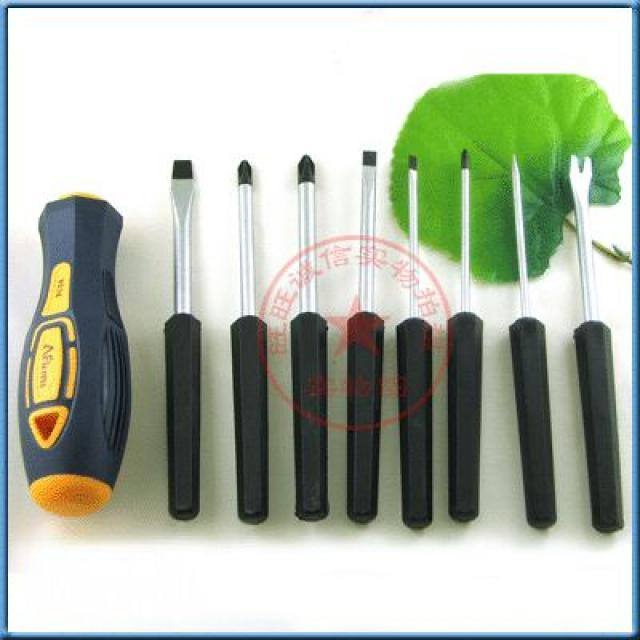Screwdriver: (148, 144, 217, 521), (506, 147, 566, 548), (216, 147, 277, 529), (284, 143, 336, 529), (337, 143, 387, 531), (439, 148, 490, 528), (394, 140, 433, 540)
